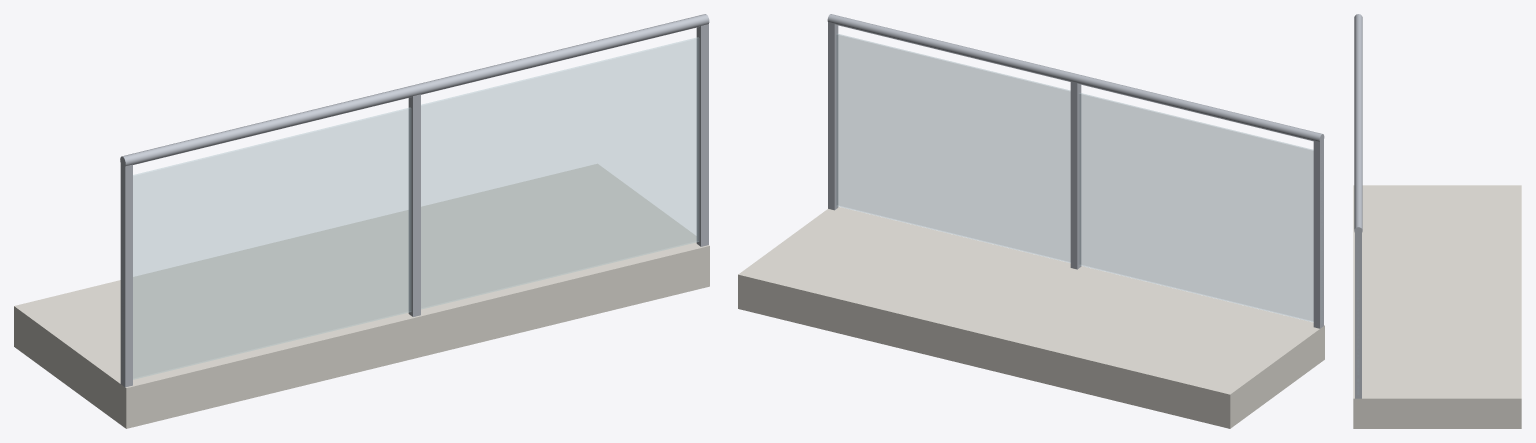
File: str-017.glb
3 views of the same model, side by side, from view 1: azimuth 30°, elevation 25°; view 2: azimuth 150°, elevation 25°; view 3: azimuth 270°, elevation 25° (orthographic). The views are drawn at different scales.
Parts seen in each view (by area): view 1: glass, deck_edge, handrail, post_1, post_2, post_3; view 2: glass, deck_edge, handrail, post_2, post_1, post_3; view 3: deck_edge, handrail, post_3.
Part boxes in pixels (x1,y1,x2,y2): glass: [122, 37, 699, 379]; deck_edge: [14, 163, 709, 428]; handrail: [120, 14, 709, 166]; post_1: [120, 160, 132, 387]; post_2: [408, 94, 420, 316]; post_3: [696, 24, 708, 246]; glass: [836, 34, 1321, 323]; deck_edge: [738, 206, 1324, 428]; handrail: [827, 14, 1324, 142]; post_2: [1070, 81, 1081, 269]; post_1: [1313, 137, 1323, 328]; post_3: [828, 22, 838, 210]; deck_edge: [1353, 185, 1521, 428]; handrail: [1354, 14, 1362, 234]; post_3: [1355, 231, 1361, 398].
Size of the model in its own units: 3 by 1.33 by 1.
